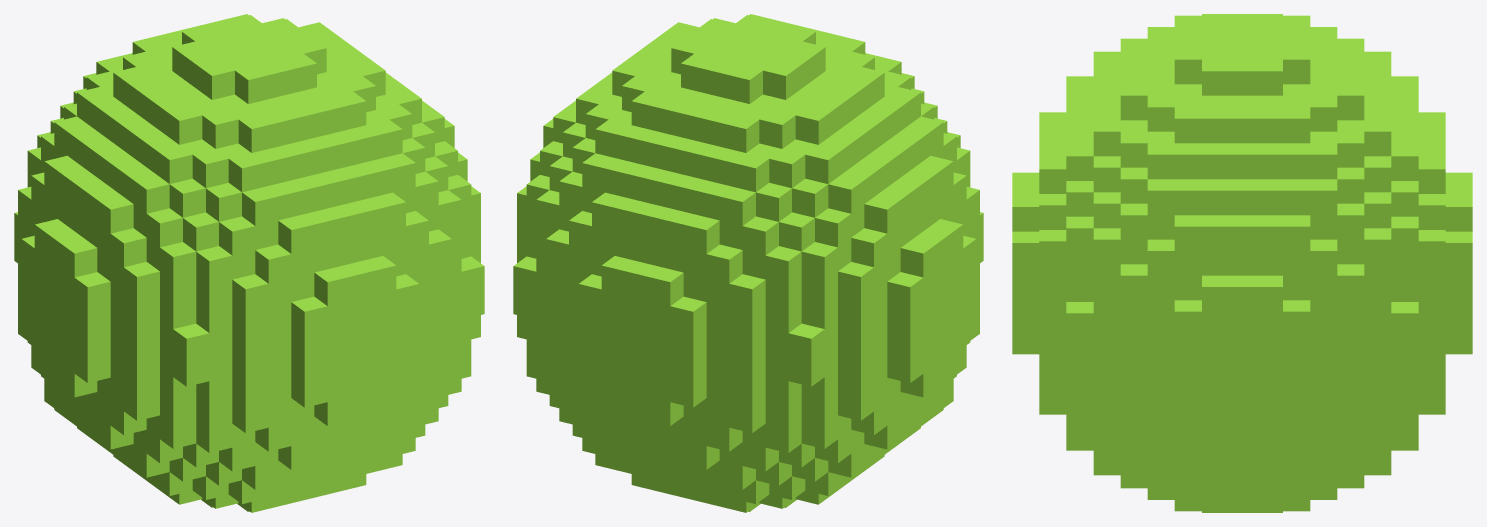
The model's file is ball.gltf.
The picture shows the model from 3 angles, left to right: view 1: azimuth 30°, elevation 25°; view 2: azimuth 150°, elevation 25°; view 3: azimuth 270°, elevation 25°; orthographic projection. The views are drawn at different scales.
Bounding box in the file's own units: 17 × 18 × 17.
1 material, 1 textured.
